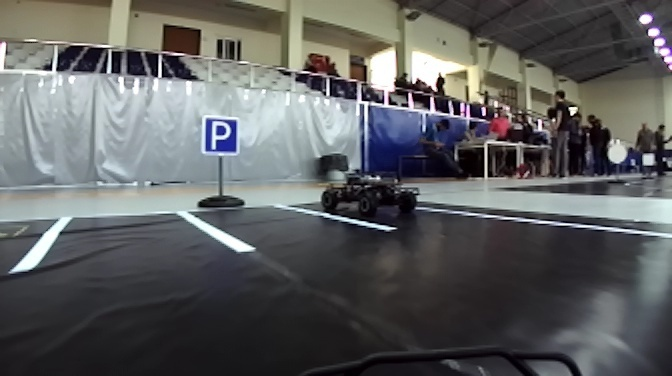park: (201, 114, 242, 158)
